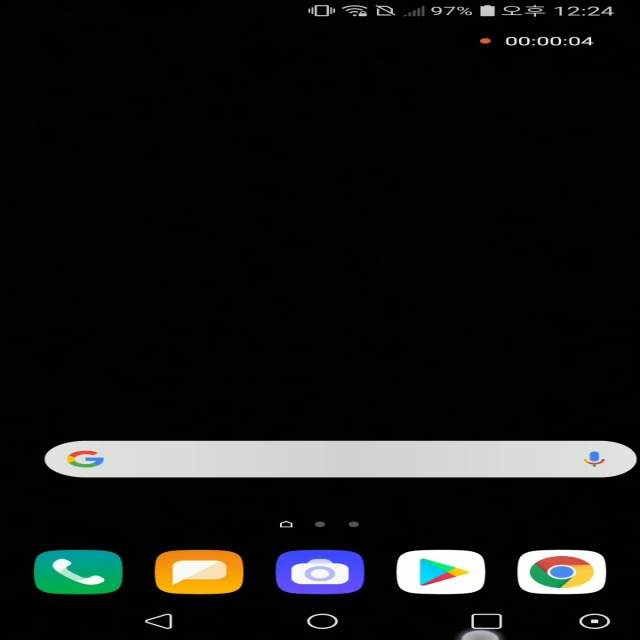Cursor: (459, 624, 504, 640)
